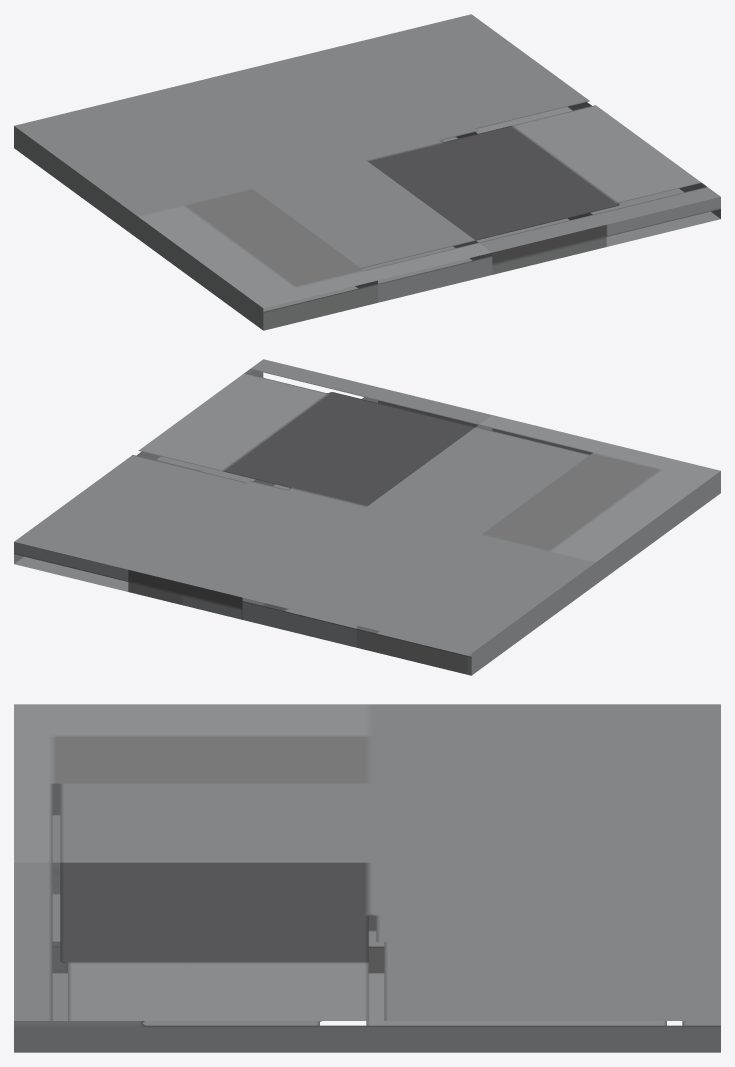
3 views of the same model, one above another, from view 1: azimuth 30°, elevation 25°; view 2: azimuth 150°, elevation 25°; view 3: azimuth 270°, elevation 25° (orthographic). The views are drawn at different scales.
Size of the model in its own units: 0.9 by 0.042 by 0.85.
